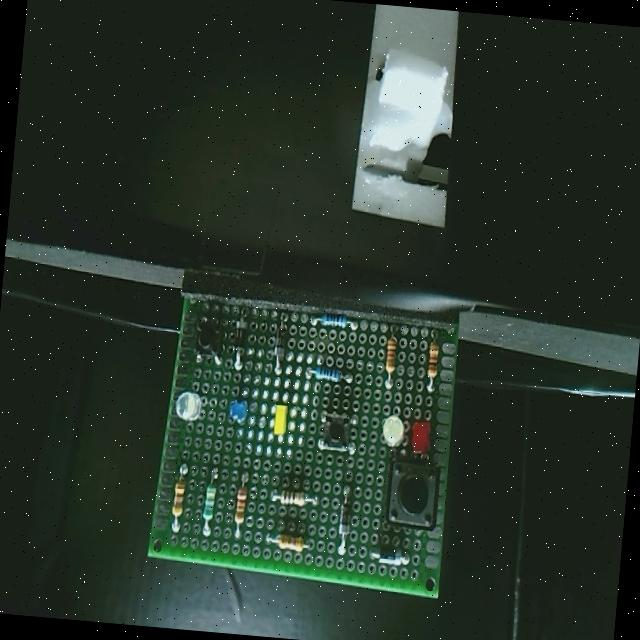diode: (329, 482, 357, 560), (228, 302, 254, 374), (269, 306, 293, 377), (367, 539, 414, 567)
led: (172, 381, 210, 429), (405, 412, 439, 458), (224, 390, 256, 432), (378, 413, 408, 453), (270, 397, 291, 438)
resistor: (166, 458, 193, 538), (197, 460, 223, 542), (260, 520, 318, 556), (417, 326, 445, 394), (306, 306, 365, 338), (378, 320, 404, 391), (230, 466, 253, 545), (302, 358, 359, 388), (265, 480, 321, 510)
switch: (376, 450, 443, 533), (189, 304, 228, 371), (311, 405, 362, 455)
